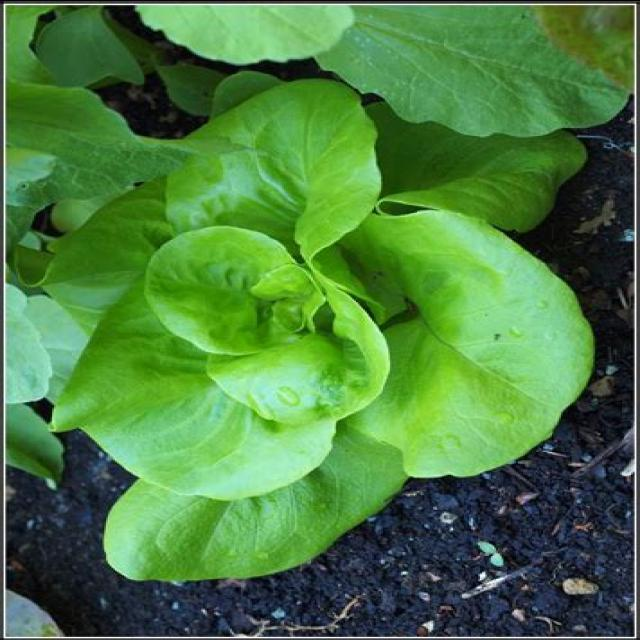Lettuce: (64, 62, 596, 597)
